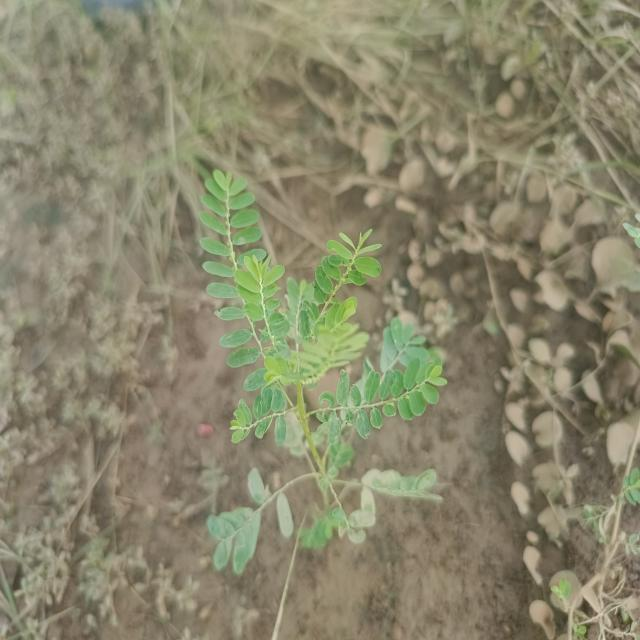weed: (198, 170, 448, 581)
